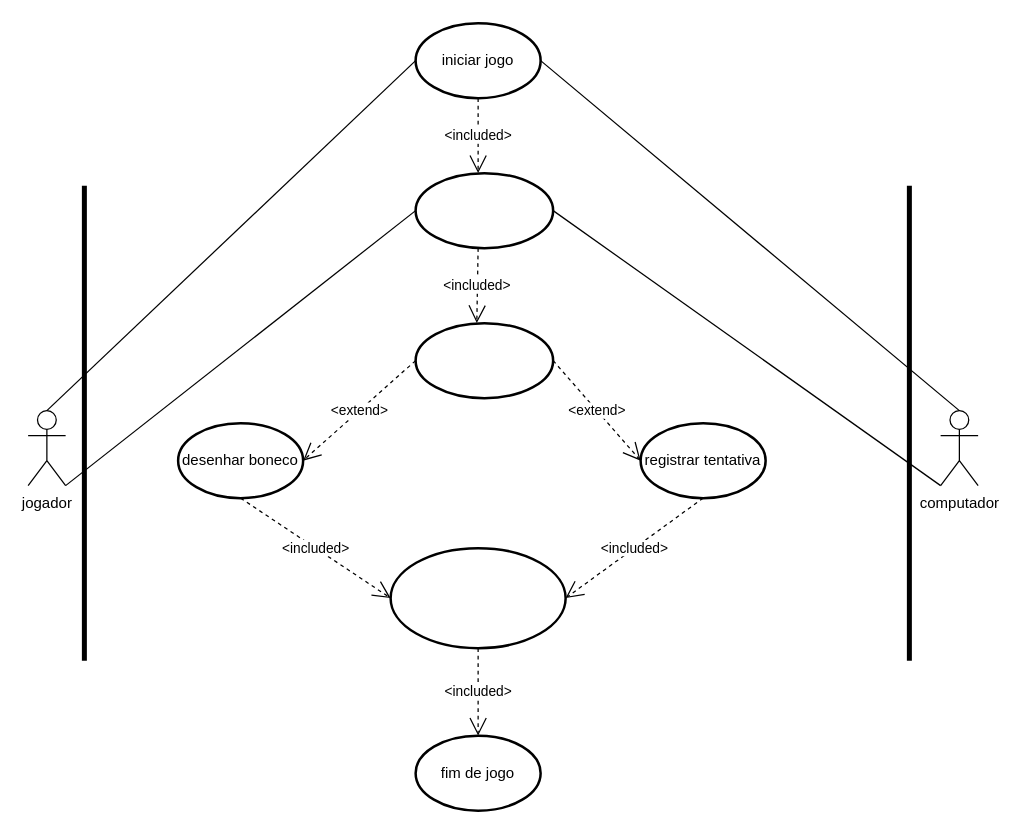
This 1020x833 diagram has some shape labels left out. Here are the shapes that lost their labels. From the top down, the centre of each, then its label:
the point at 484,210: escolha uma letra aleatória
the point at 484,360: verificar letra
the point at 477,597: verificar condição de vitória e derrota
